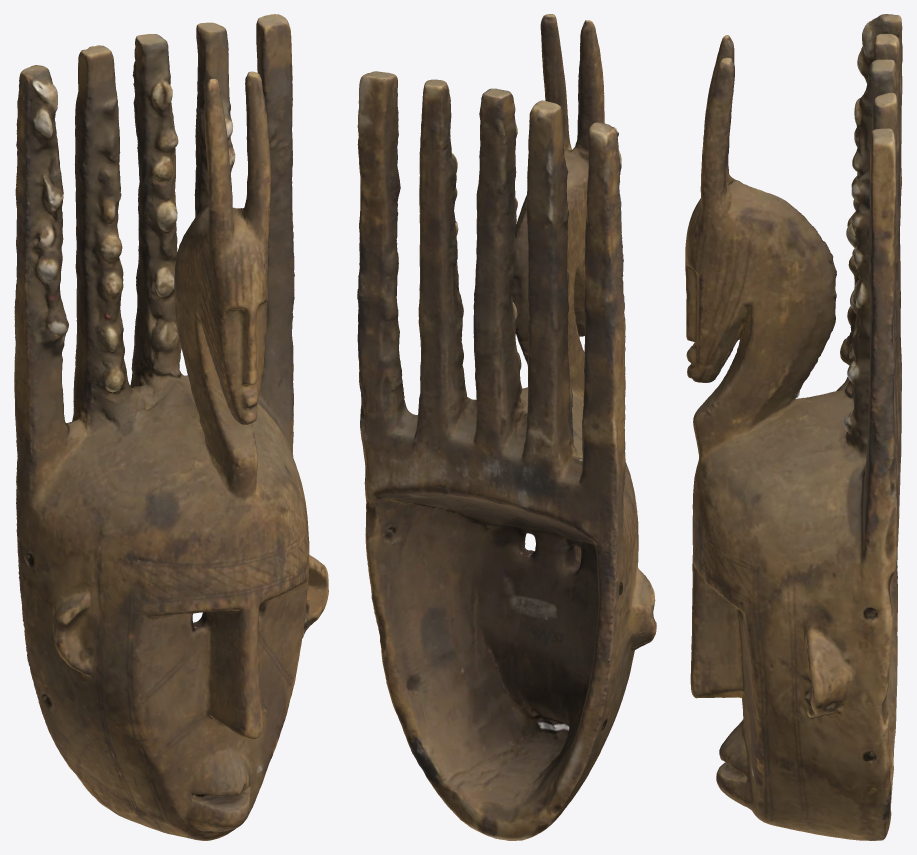
File: masque.glb
3 views of the same model, side by side, from view 1: azimuth 30°, elevation 25°; view 2: azimuth 150°, elevation 25°; view 3: azimuth 270°, elevation 25° (orthographic). The views are drawn at different scales.
Visible parts, largest first — view 1: Object_2; view 2: Object_2; view 3: Object_2.
Boxes of the visible parts, x1,y1,x2,y2 form: Object_2: [14, 14, 328, 840]; Object_2: [357, 14, 656, 840]; Object_2: [685, 14, 902, 840].
Size of the model in its own units: 10.77 by 29.78 by 7.44.
Materials: 1 (1 with a texture image).
